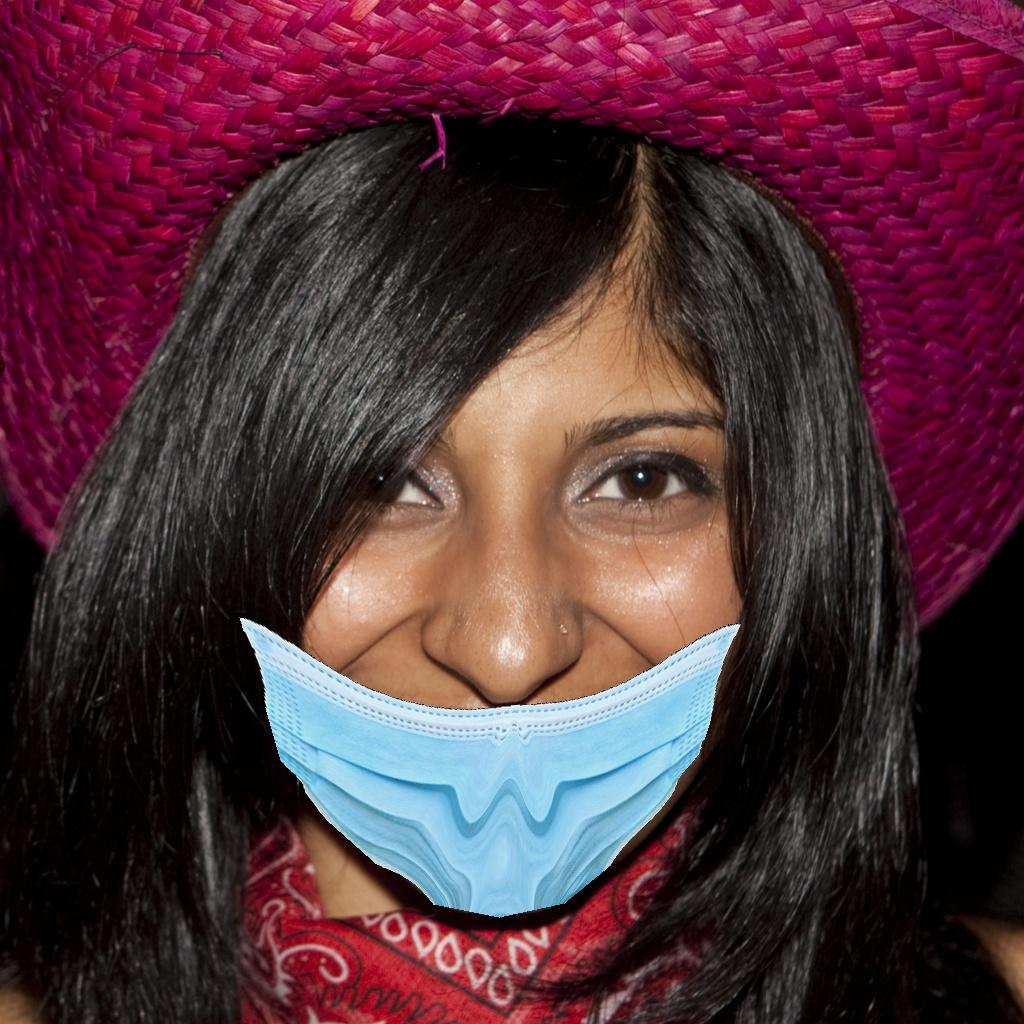Máscara Incorreta: (213, 305, 755, 884)
